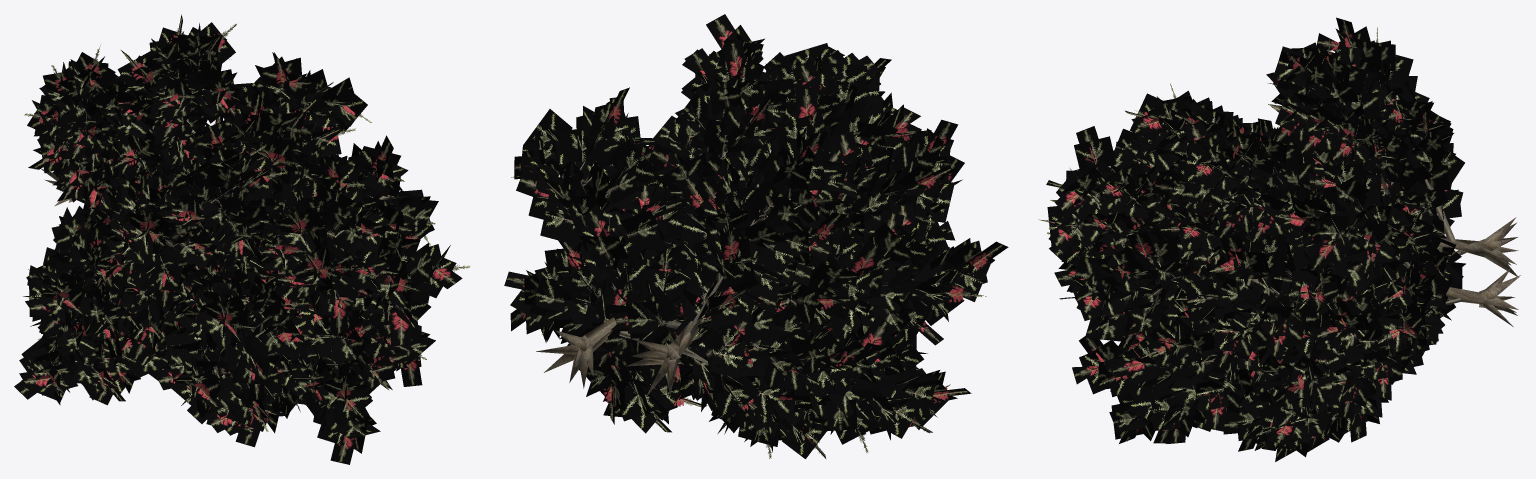
3 renders of one model, left to right at view 1: azimuth 30°, elevation 25°; view 2: azimuth 150°, elevation 25°; view 3: azimuth 270°, elevation 25°, orthographic. The views are drawn at different scales.
Parts seen in each view (by area): view 1: OC29_8; view 2: OC29_8; view 3: OC29_8.
Boxes of the visible parts, x1,y1,x2,y2 form: OC29_8: [14, 14, 469, 464]; OC29_8: [504, 14, 1008, 458]; OC29_8: [1038, 17, 1520, 461].
Size of the model in its own units: 2.28 by 2.12 by 2.4.
Materials: 7 (7 with a texture image).
